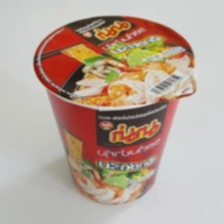paper_cup: (29, 10, 202, 209)
